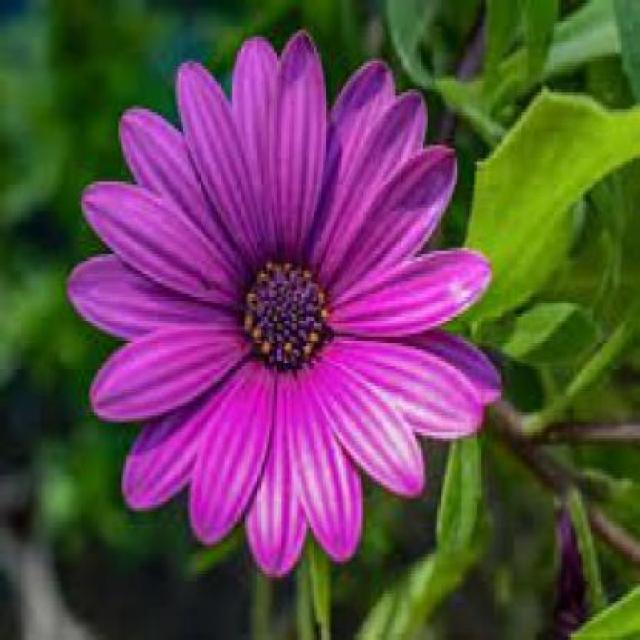Flower: (66, 30, 502, 578), (245, 261, 329, 362)
